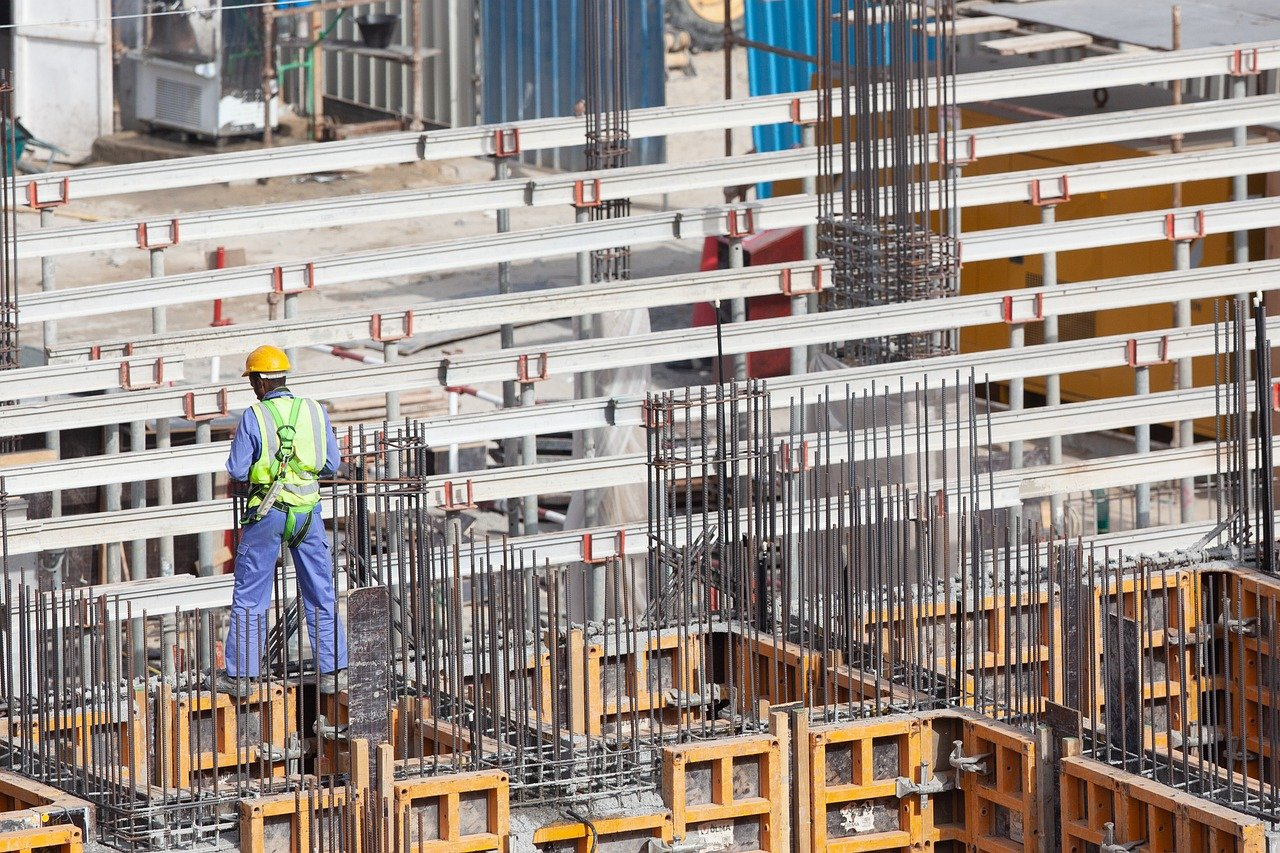Hard Hat: (241, 344, 289, 397)
Person: (223, 347, 351, 683)
Vest: (241, 379, 318, 508)
